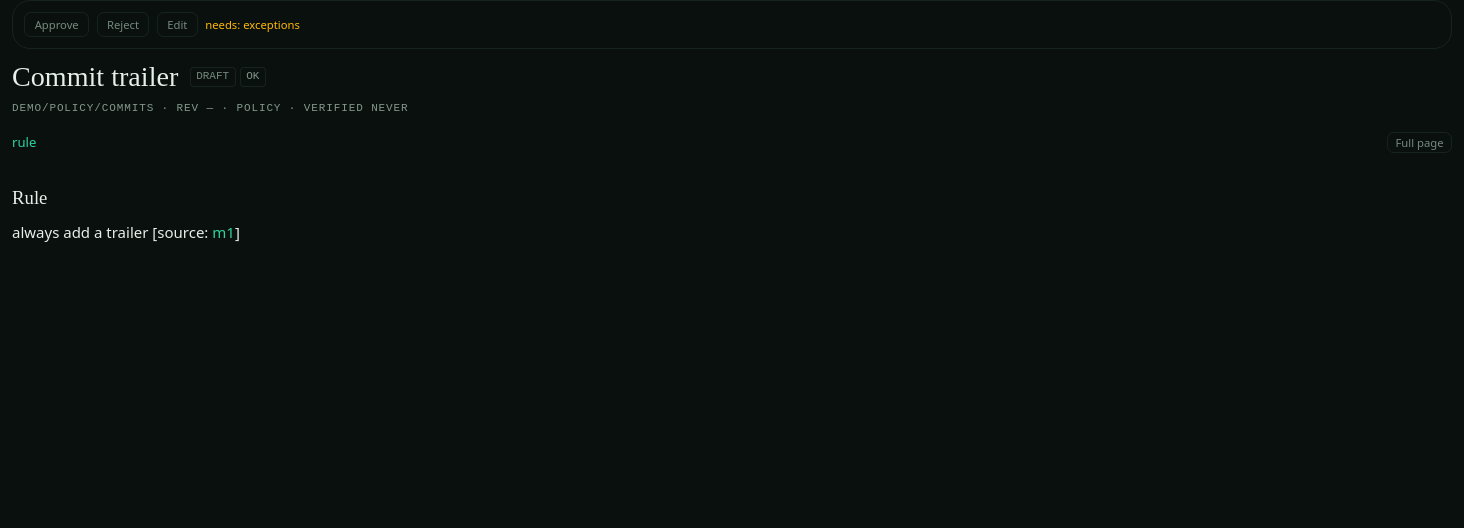
Test: WikiDraftView › a successful save closes the editor
Click the button "Edit": (177, 25) [157,12,198,37]
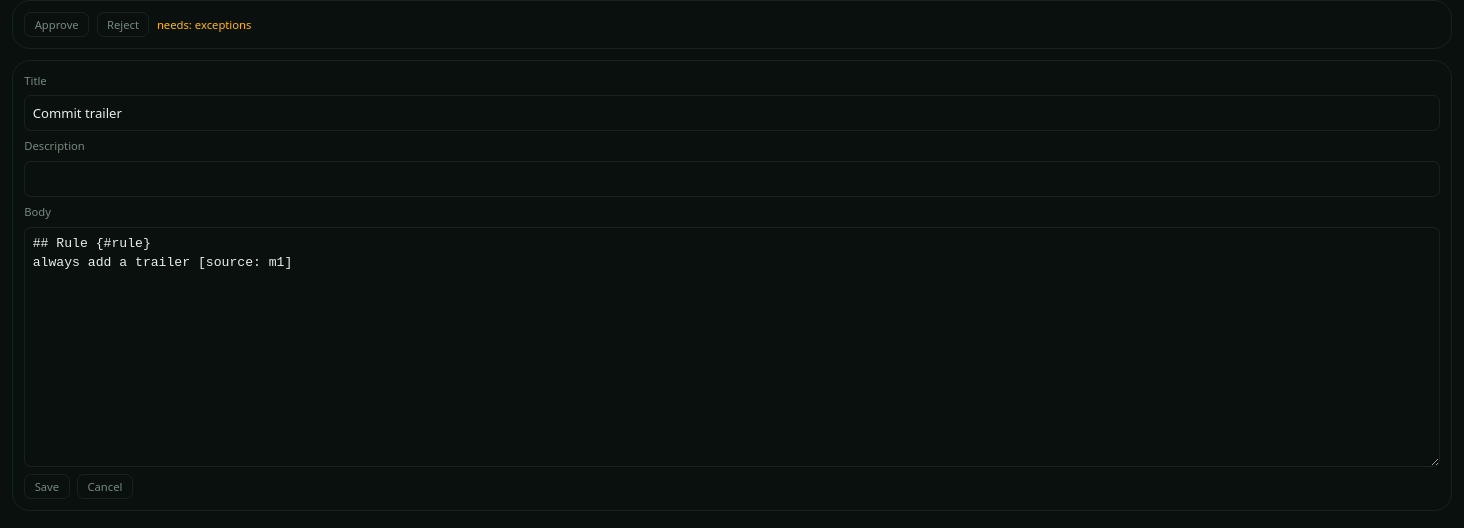
Click the button "Save": (47, 486) [24,474,70,498]
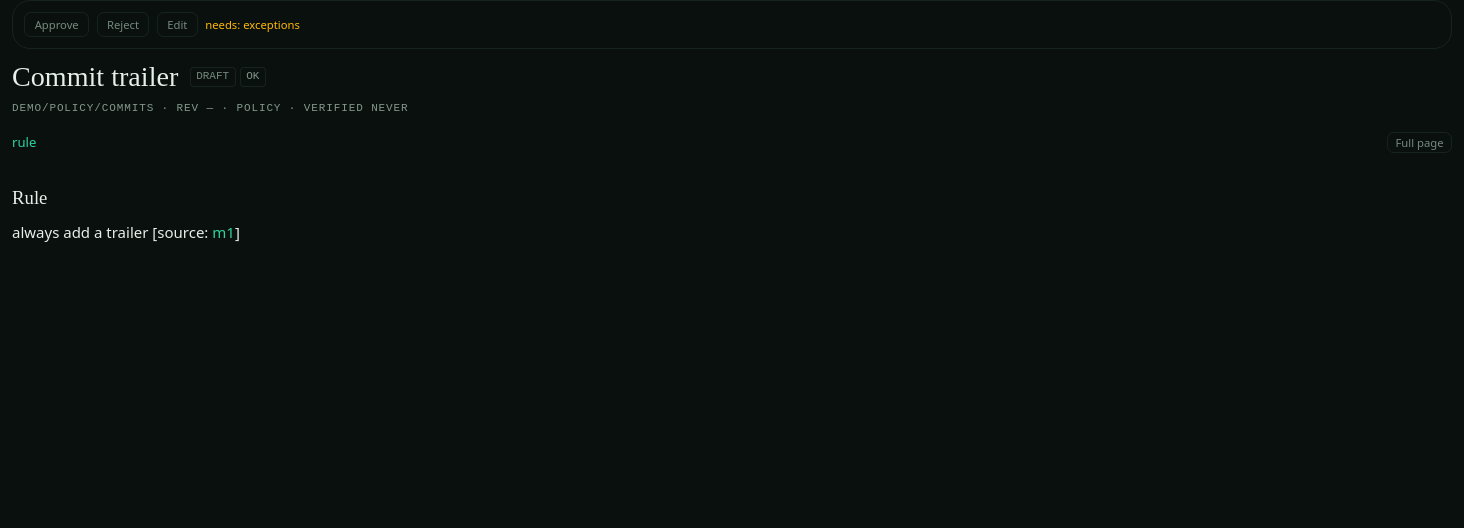
Expected: the label labelled "Body" is gone
